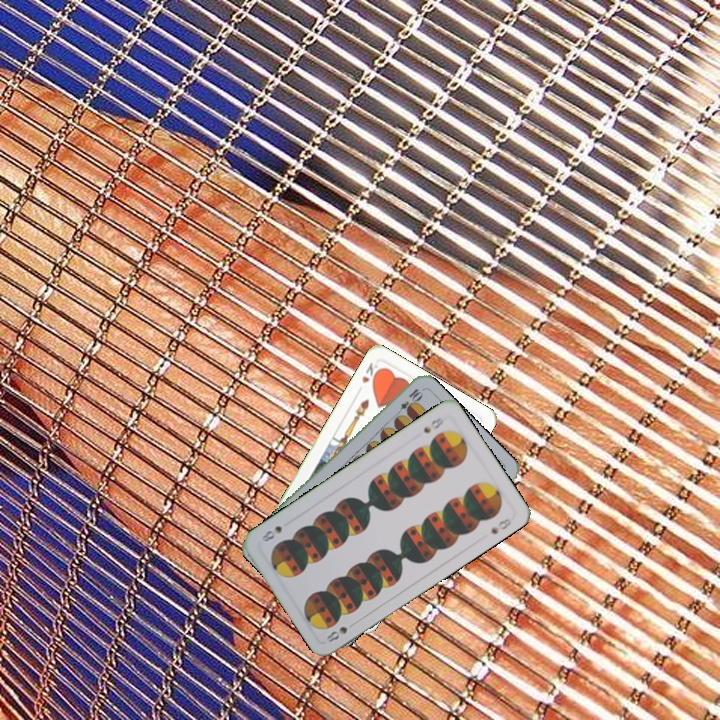E10: (391, 384, 425, 419)
HK: (358, 358, 384, 387)
S8: (322, 622, 350, 645), (419, 413, 446, 436)
